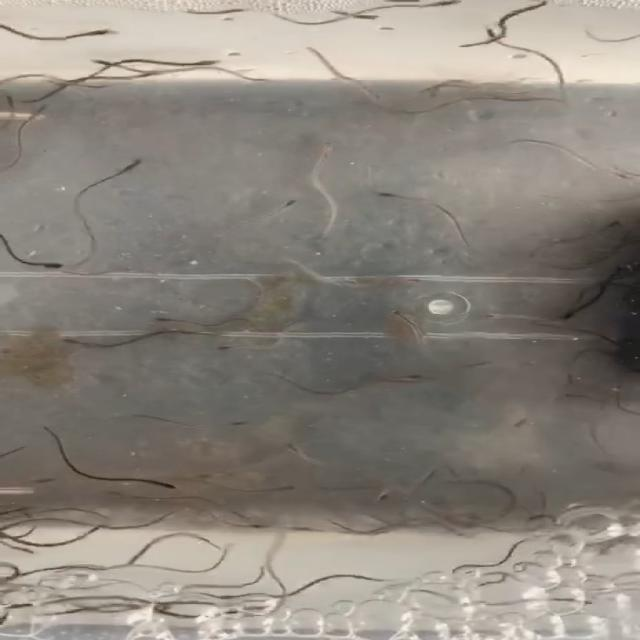active_glass_eel: (304, 138, 338, 158), (26, 99, 54, 122), (480, 26, 508, 46), (180, 58, 226, 70), (304, 44, 330, 64), (77, 58, 119, 70), (266, 199, 302, 213), (328, 11, 378, 21), (116, 156, 146, 172), (0, 90, 26, 108), (417, 0, 474, 8), (196, 468, 228, 482), (556, 310, 589, 323), (394, 276, 429, 288), (209, 341, 247, 352), (80, 27, 116, 38), (39, 262, 72, 274), (408, 84, 443, 95), (568, 596, 600, 608), (447, 527, 472, 542), (62, 334, 88, 348), (608, 168, 638, 180), (394, 372, 430, 382), (508, 418, 538, 430), (28, 476, 64, 486), (460, 358, 492, 369), (445, 563, 474, 575), (483, 312, 517, 322), (599, 220, 627, 232), (282, 442, 306, 456), (528, 512, 558, 523), (560, 392, 592, 402), (222, 420, 254, 430), (422, 86, 444, 100), (371, 190, 401, 200), (80, 525, 102, 538), (12, 546, 40, 556), (368, 489, 391, 501), (153, 316, 180, 326), (157, 479, 183, 489), (572, 290, 590, 304), (270, 484, 298, 493), (390, 310, 410, 322), (566, 371, 580, 386)
